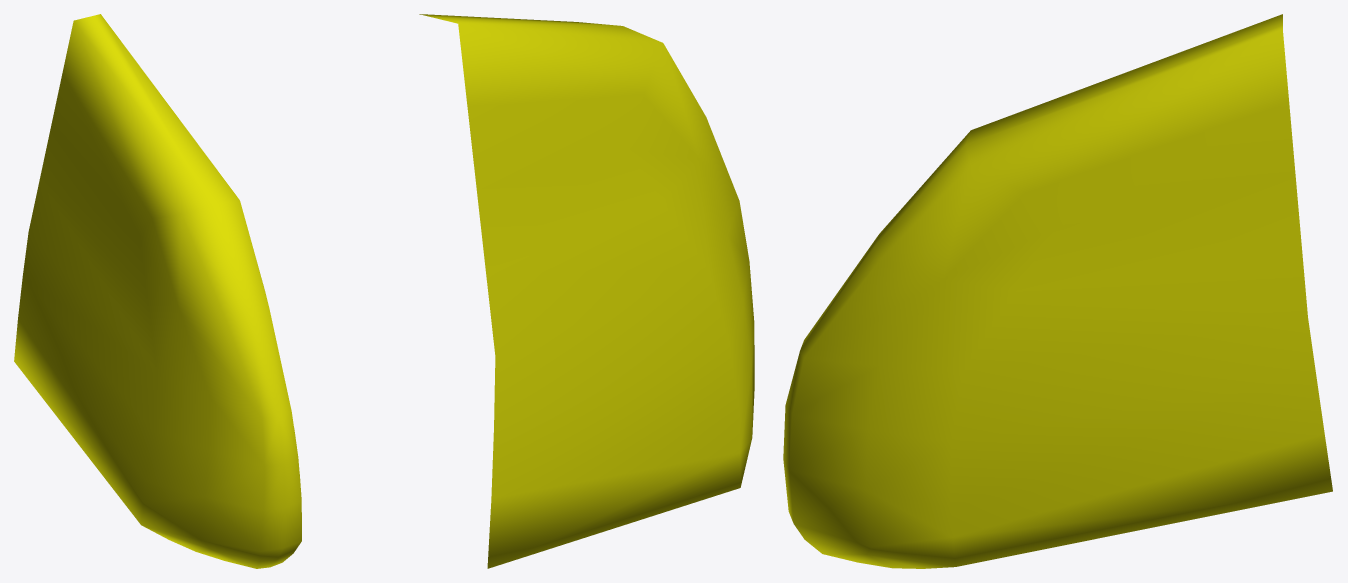
File: Nose_17.glb
The picture shows the model from 3 angles, left to right: view 1: azimuth 30°, elevation 25°; view 2: azimuth 150°, elevation 25°; view 3: azimuth 270°, elevation 25°; orthographic projection. The views are drawn at different scales.
Size of the model in its own units: 8.16 by 21.45 by 20.38.
